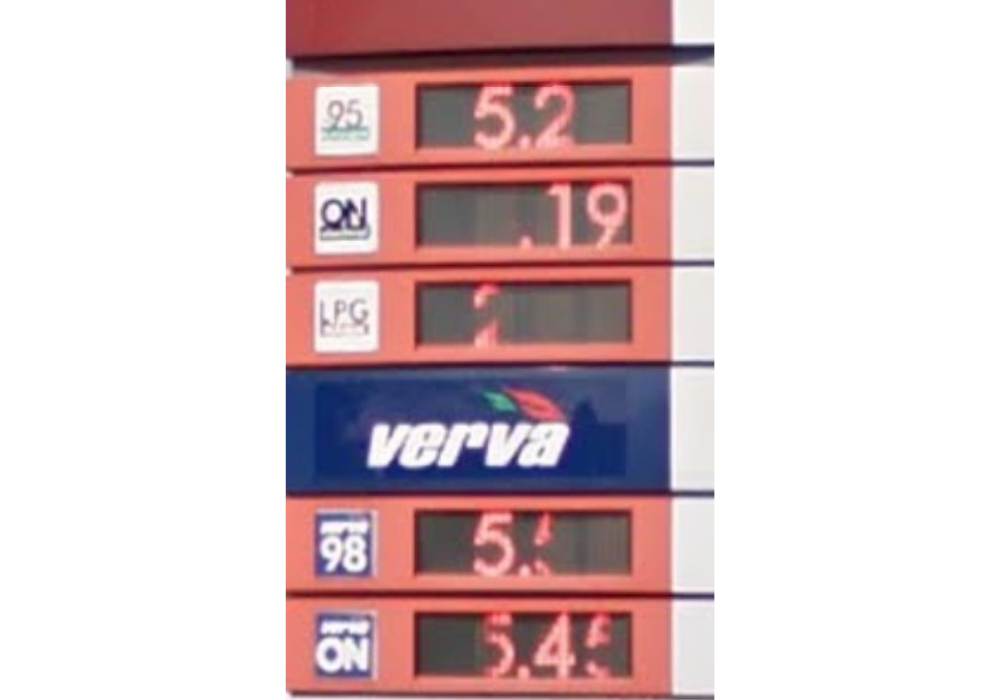LPG: (311, 278, 382, 355)
ON: (311, 180, 380, 254), (311, 607, 377, 678)
PB95: (311, 82, 382, 156)
PB98: (312, 509, 372, 578)
